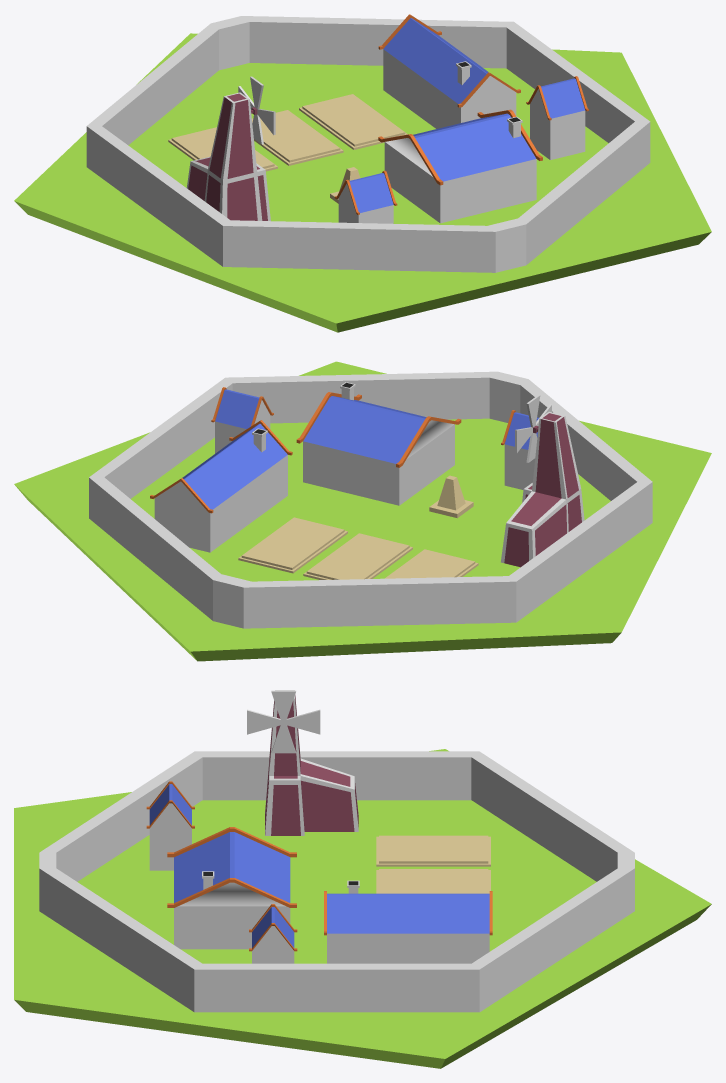
The model's file is VilleViking_1.fbx.
3 renders of one model, top to bottom at view 1: azimuth 30°, elevation 25°; view 2: azimuth 150°, elevation 25°; view 3: azimuth 270°, elevation 25°, orthographic. The views are drawn at different scales.
Visible parts, largest first — view 1: tiles.001; view 2: tiles.001; view 3: tiles.001.
Part boxes in pixels (left/top/right/bottom): tiles.001: left=14, top=14, right=711, bottom=332; tiles.001: left=14, top=361, right=711, bottom=661; tiles.001: left=14, top=690, right=711, bottom=1068.
Size of the model in its own units: 111 by 26.31 by 105.
